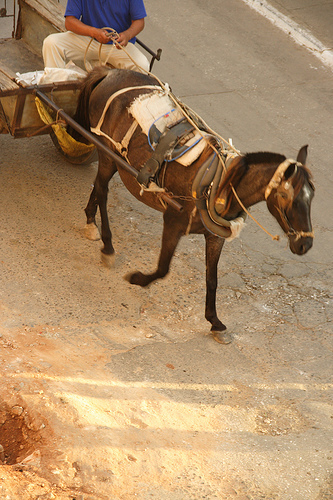horse: (73, 59, 320, 348)
